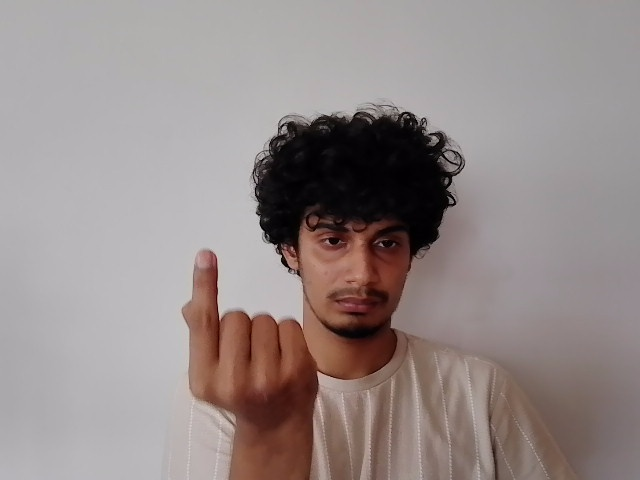just: (179, 247, 325, 420)
